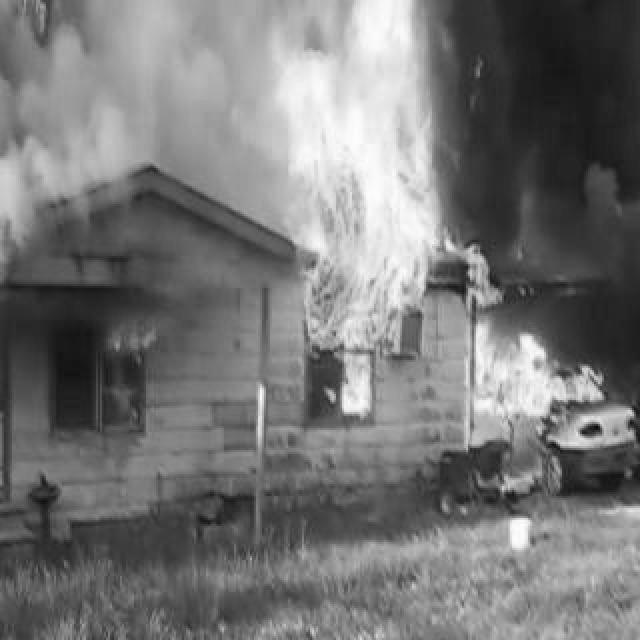fire: (272, 22, 432, 354), (470, 326, 610, 418), (94, 310, 156, 424), (454, 236, 498, 322), (344, 352, 378, 434)
smoke: (8, 16, 262, 256)
